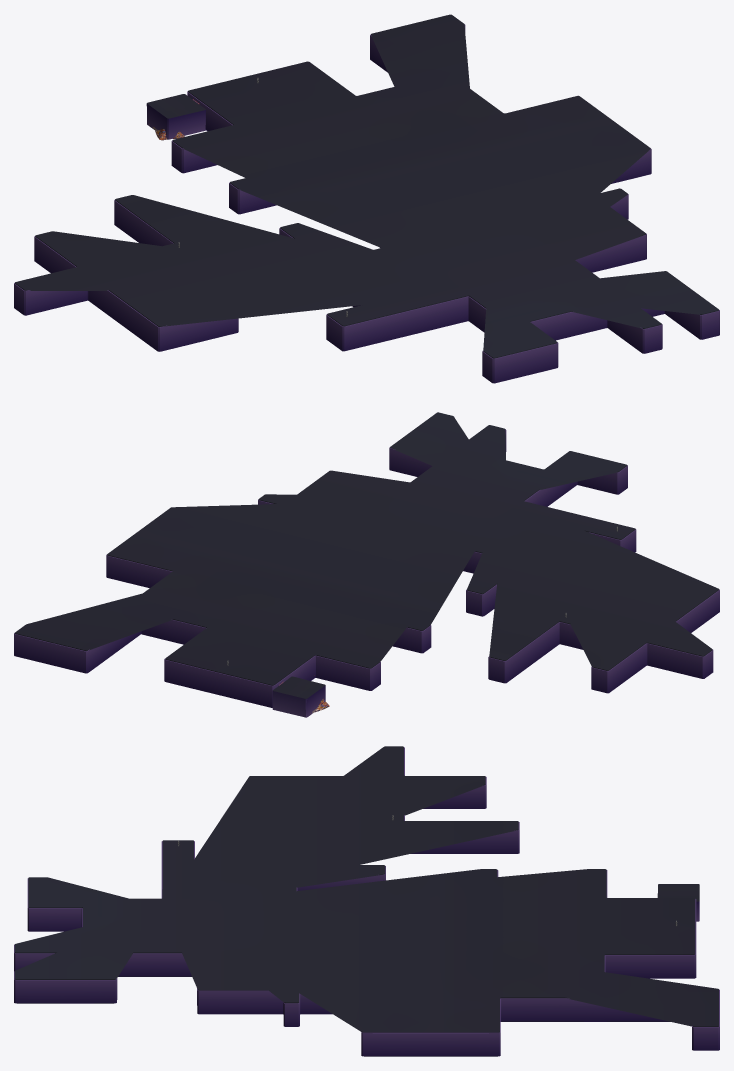
File: maze.fbx
3 views of the same model, one above another, from view 1: azimuth 30°, elevation 25°; view 2: azimuth 150°, elevation 25°; view 3: azimuth 270°, elevation 25° (orthographic). The views are drawn at different scales.
Visible parts, largest first — view 1: MazeRoof, Maze; view 2: MazeRoof, Maze; view 3: MazeRoof, Maze.
Part boxes in pixels (box(x1,y1,x2,y2)): MazeRoof: box(15, 14, 718, 358); Maze: box(14, 24, 719, 383); MazeRoof: box(15, 412, 719, 685); Maze: box(14, 429, 719, 717); MazeRoof: box(14, 746, 718, 1032); Maze: box(14, 747, 719, 1056).
Size of the model in its own units: 7909 by 408 by 8243.
Materials: 11 (11 with a texture image).
